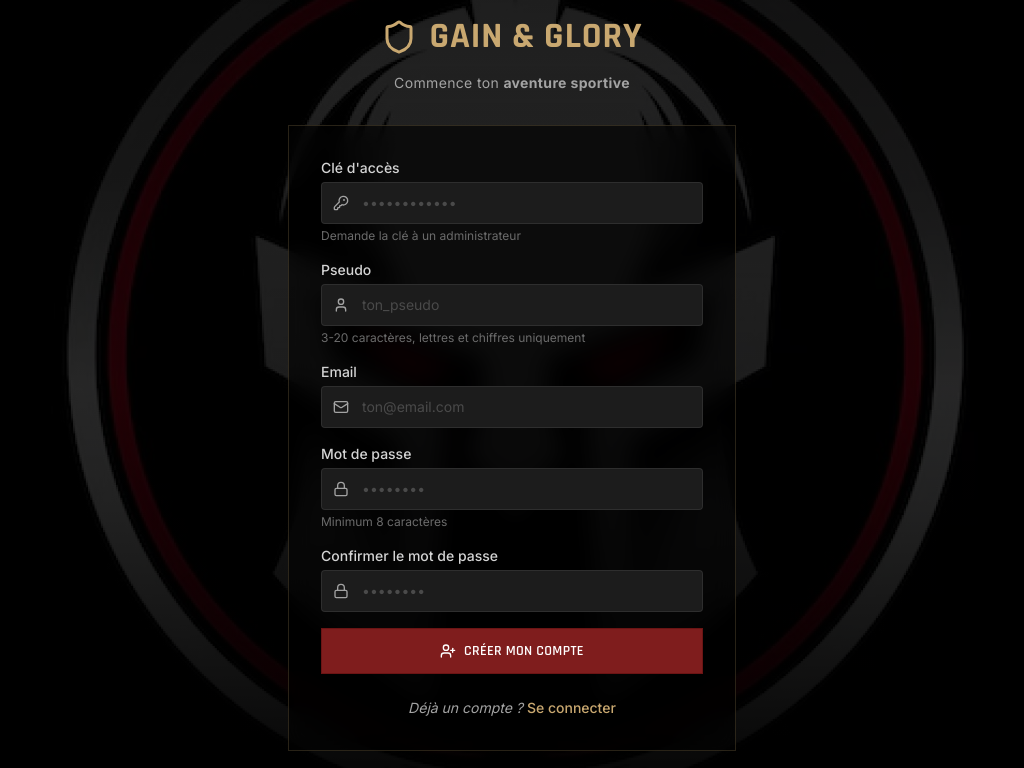
RegisterPage › affiche une erreur si le pseudo est trop court
Type "Vivelerose94" into the password field labelled "Clé d'accès". click: (512, 203)
box: [321,182,703,224]
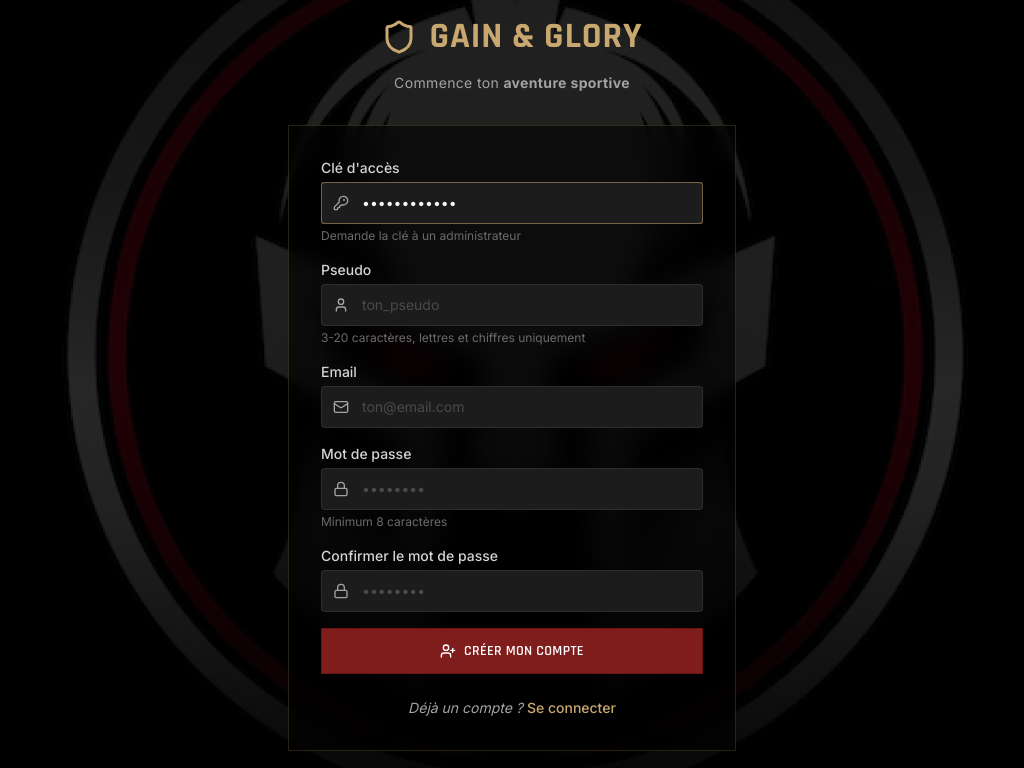
Type "ab" into the field labelled "Pseudo". click: (512, 305)
box: [321,284,703,326]
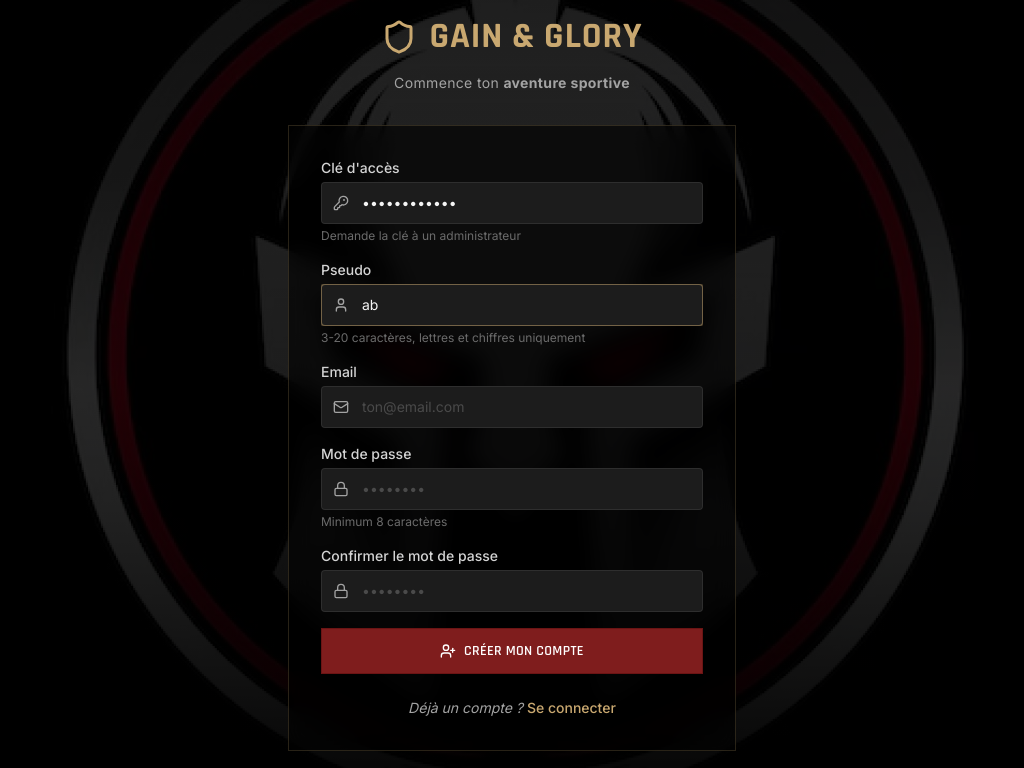
Type "warrior@test.com" into the field labelled "Email". click: (512, 407)
box: [321,386,703,428]
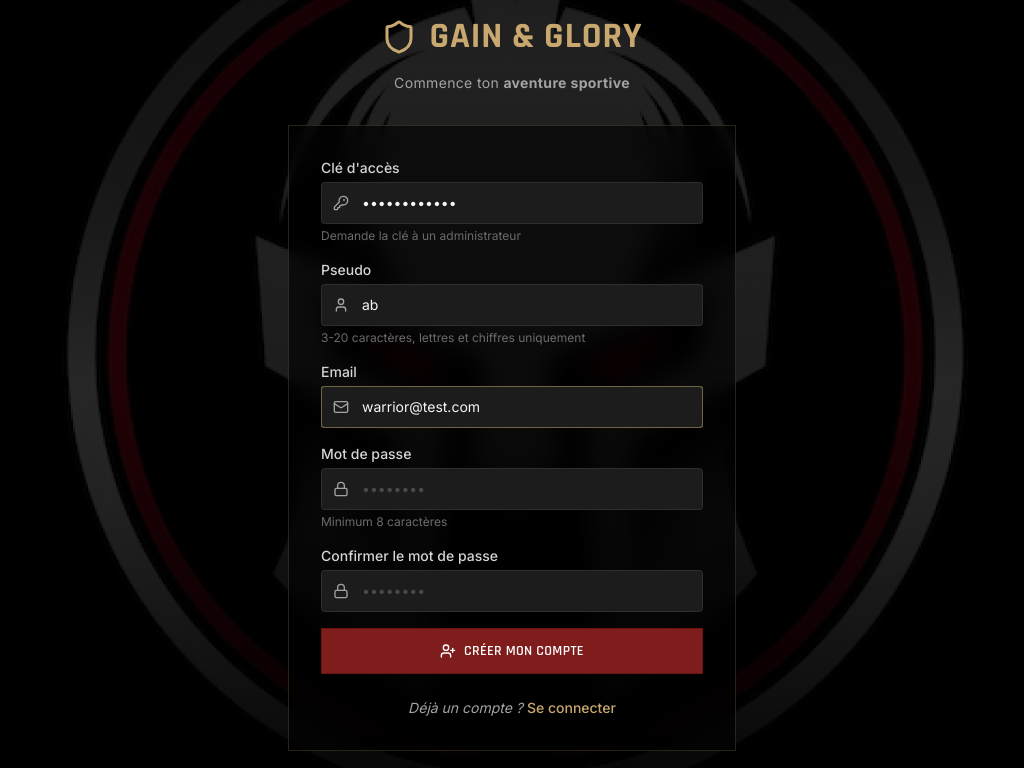
Type "password123" into the password field labelled "Mot de passe". click: (512, 489)
box: [321,468,703,510]
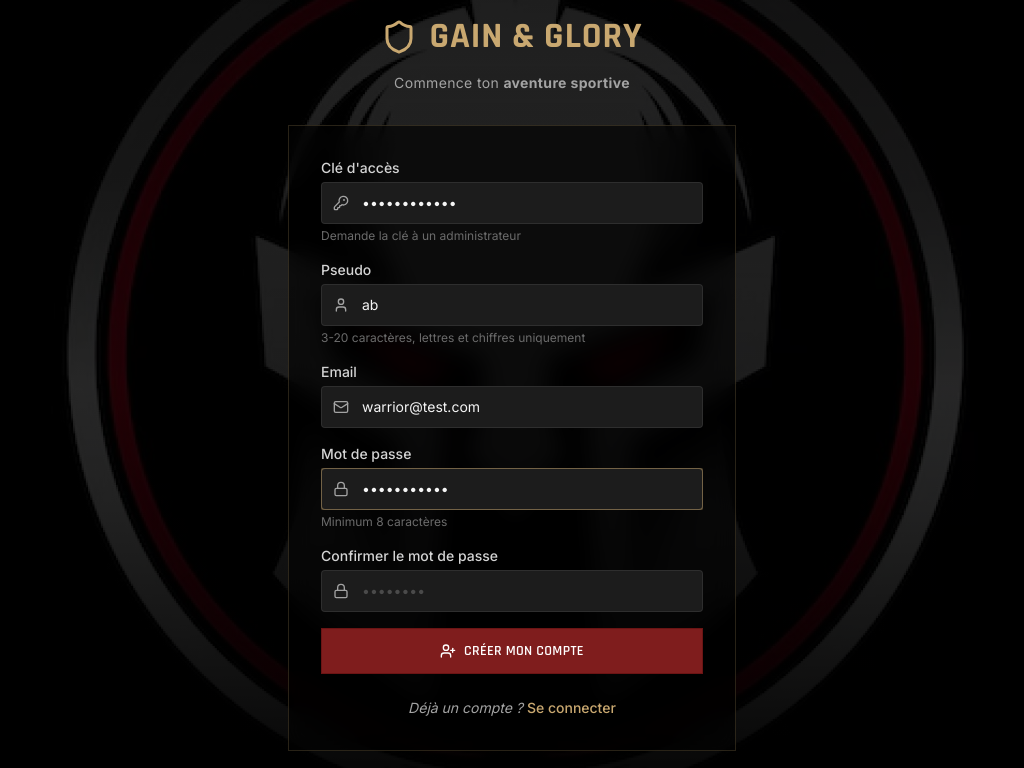
Type "password123" into the password field labelled "Confirmer le mot de passe". click: (512, 591)
box: [321,570,703,612]
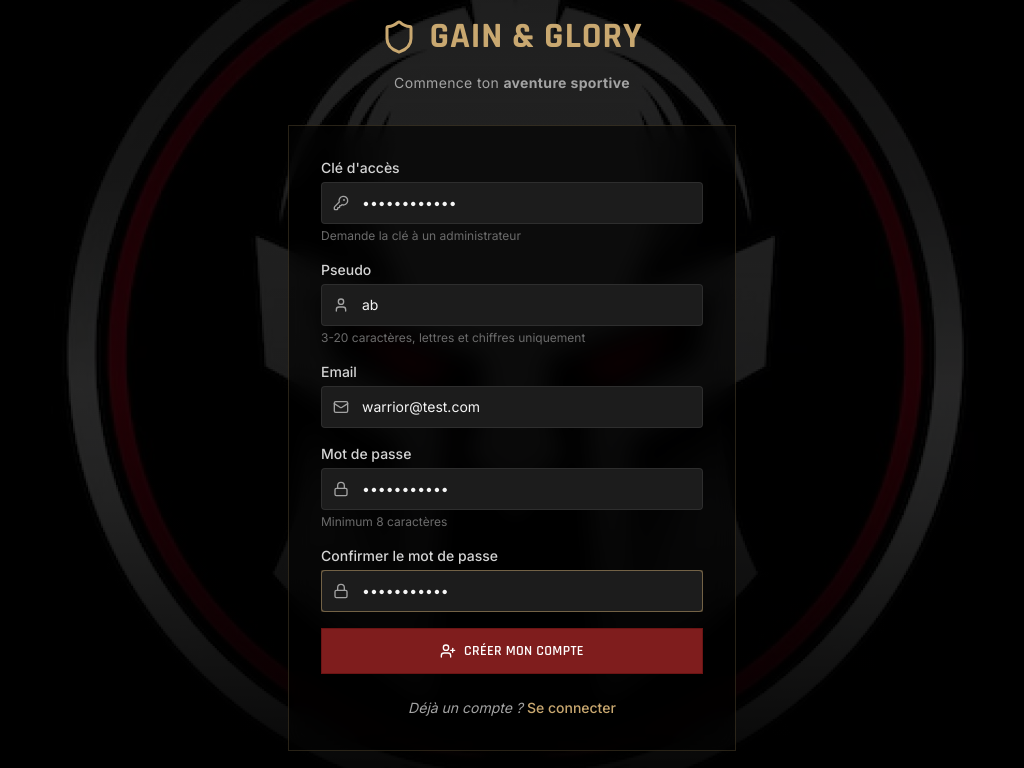
Click the button "CRÉER MON COMPTE". click: (512, 651)
box: [321,628,703,674]
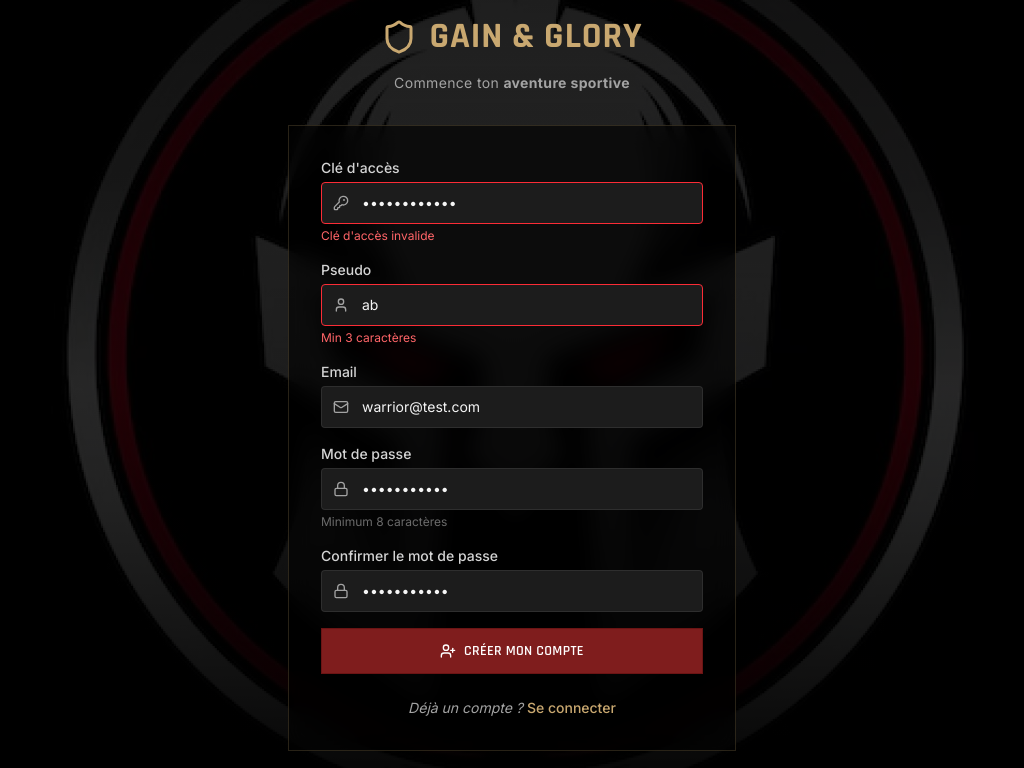
Now the text "Min 3 caractères" is shown, box [321,330,416,345]
